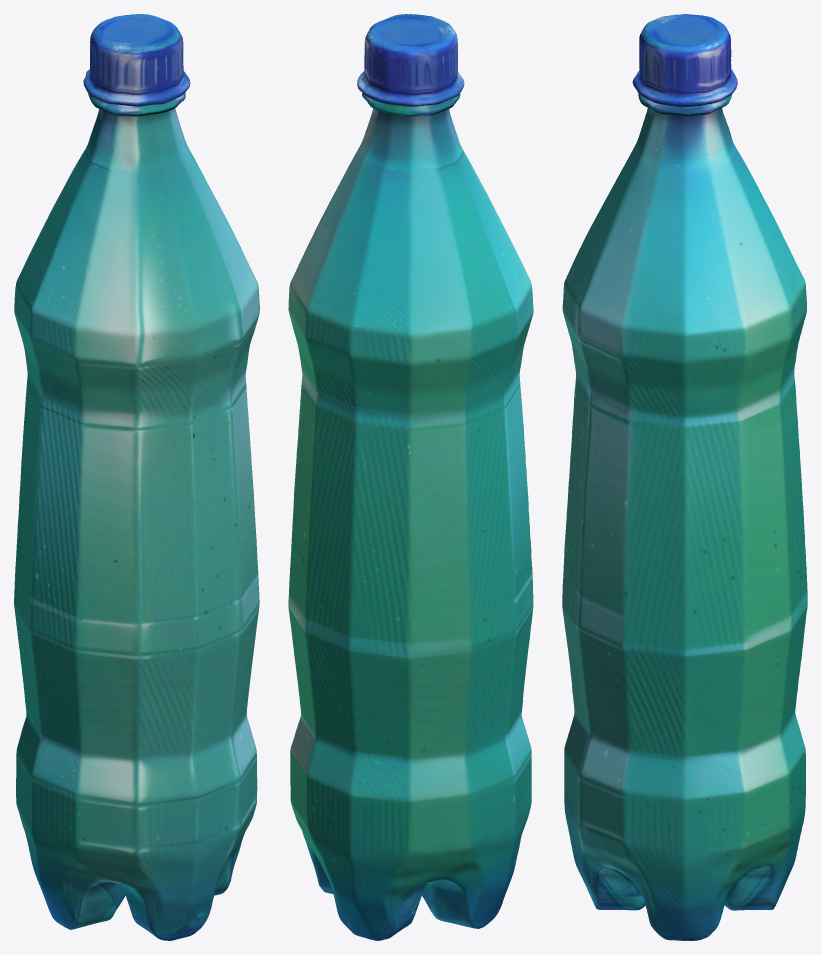
File: 3dBotellaPlastica.fbx
3 views of the same model, side by side, from view 1: azimuth 30°, elevation 25°; view 2: azimuth 150°, elevation 25°; view 3: azimuth 270°, elevation 25° (orthographic).
Parts seen in each view (by area): view 1: Mesh1.0; view 2: Mesh1.0; view 3: Mesh1.0.
Part boxes in pixels (<box>): Mesh1.0: <box>14,14,259,940</box>; Mesh1.0: <box>288,14,533,940</box>; Mesh1.0: <box>562,14,807,940</box>.
Size of the model in its own units: 50.96 by 200 by 51.01.
1 material, 1 textured.
